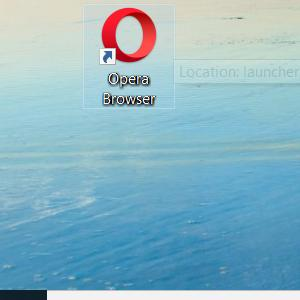opera: (99, 7, 156, 65)
